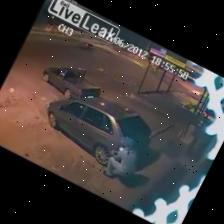person: (103, 148, 136, 178)
